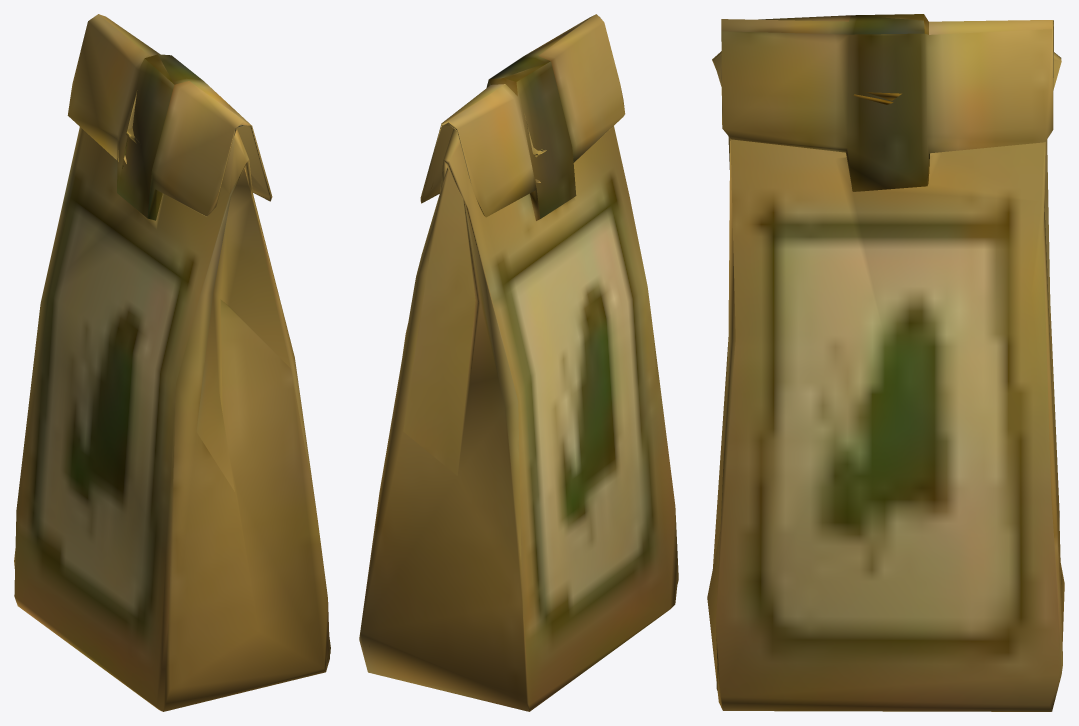
File: seed_packet.glb
3 views of the same model, side by side, from view 1: azimuth 30°, elevation 25°; view 2: azimuth 150°, elevation 25°; view 3: azimuth 270°, elevation 25° (orthographic). The views are drawn at different scales.
Size of the model in its own units: 0.3061 by 0.9982 by 0.4985.
Materials: 1 (1 with a texture image).
